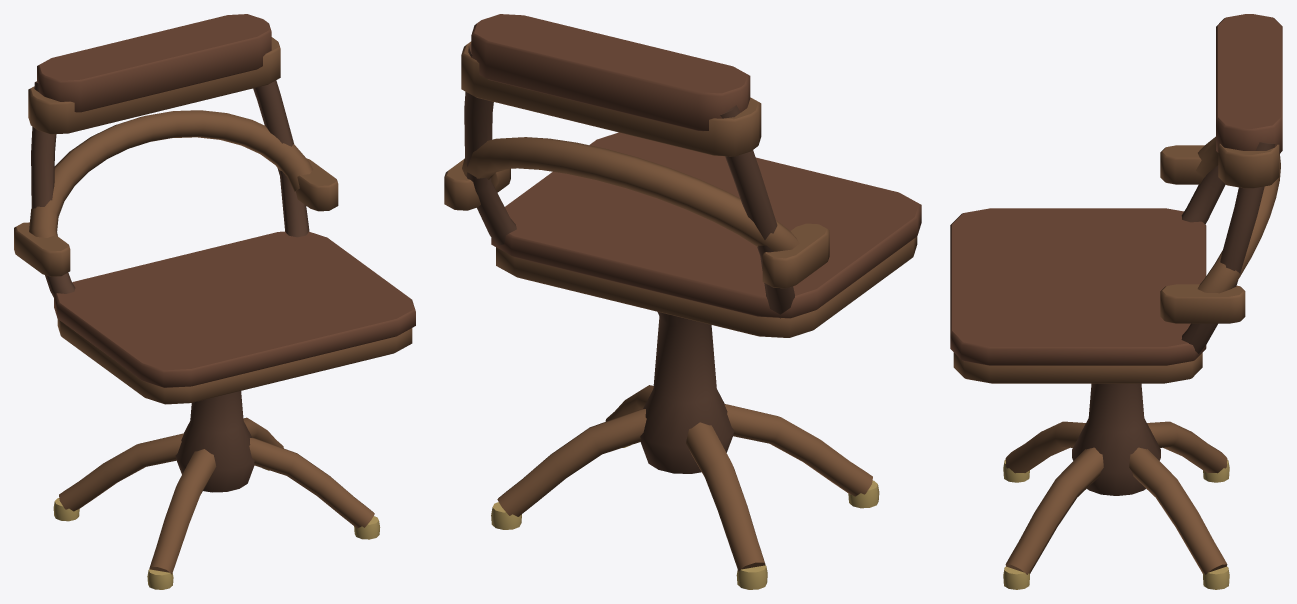
Rendered from rpg-mansion-scoop-desk-01.glb.
3 views of the same model, side by side, from view 1: azimuth 30°, elevation 25°; view 2: azimuth 150°, elevation 25°; view 3: azimuth 270°, elevation 25° (orthographic). The views are drawn at different scales.
Parts seen in each view (by area): view 1: rpg-mansion-scoop-desk-01; view 2: rpg-mansion-scoop-desk-01; view 3: rpg-mansion-scoop-desk-01.
Boxes of the visible parts, left/top/right/bottom form: rpg-mansion-scoop-desk-01: left=14, top=14, right=415, bottom=589; rpg-mansion-scoop-desk-01: left=444, top=14, right=921, bottom=589; rpg-mansion-scoop-desk-01: left=950, top=14, right=1282, bottom=589.
Size of the model in its own units: 0.597 by 0.835 by 0.548.
